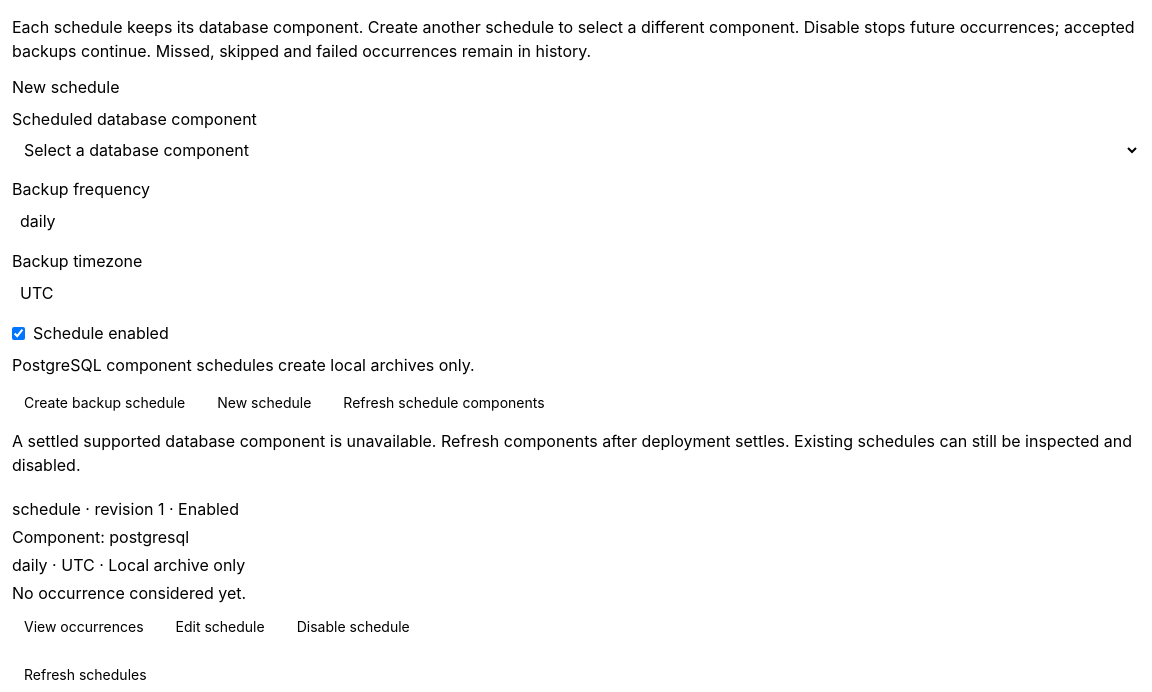
Test: postgresql history and disabling survive failed evidence
(page scrolled)
Expected: the text "Existing schedules can still be inspected" is shown, [12, 431, 1132, 475]
Click the button "View occurrences". click: (84, 627)
box: [12, 609, 156, 645]
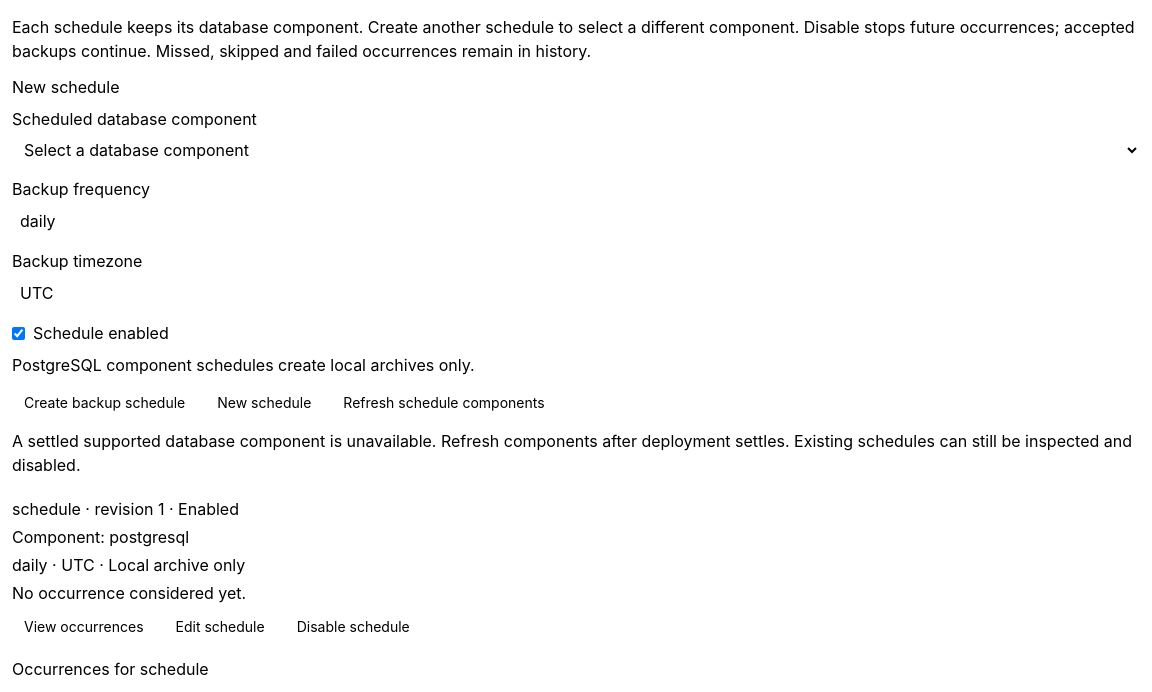
Click the button "Disable schedule". click: (353, 627)
box: [285, 609, 422, 645]
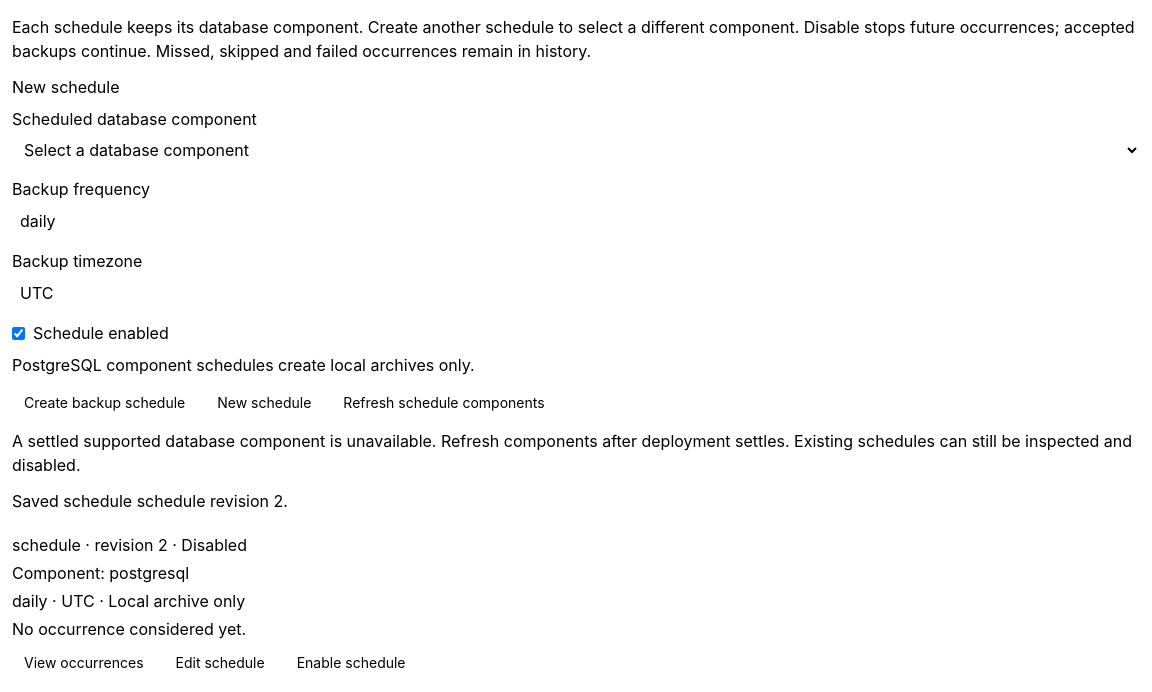
Now the text "Saved schedule schedule revision 2." is shown, box [12, 491, 288, 511]
